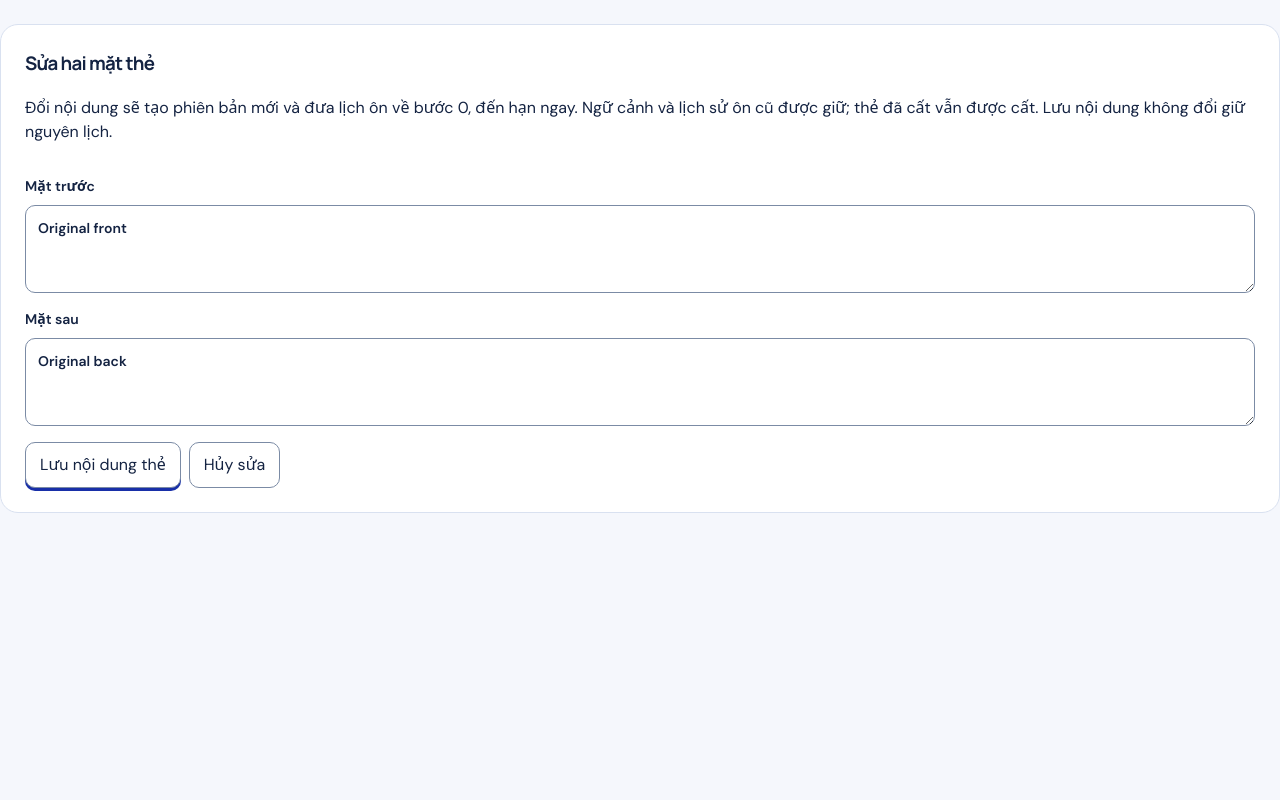
it: versioned card editor › can deliberately adopt the remote text without automatically writing
The width and height of the screenshot is (1280, 800).
Later steps or results of the test are not shown.
Submit the form, box [25,160,1255,488]
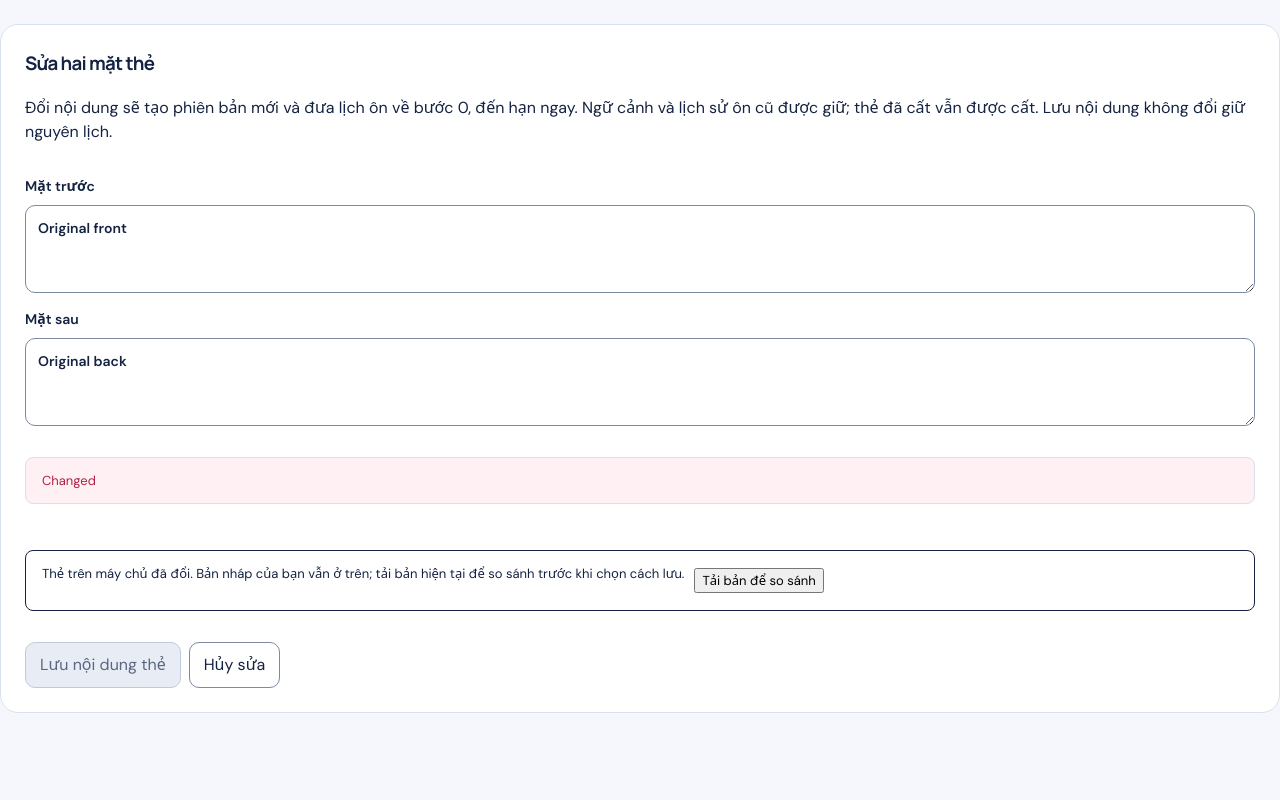
expect the button "Tải bản để so sánh" is shown: met
Click the button "Tải bản để so sánh".
click(759, 581)  # box [694,568,824,593]
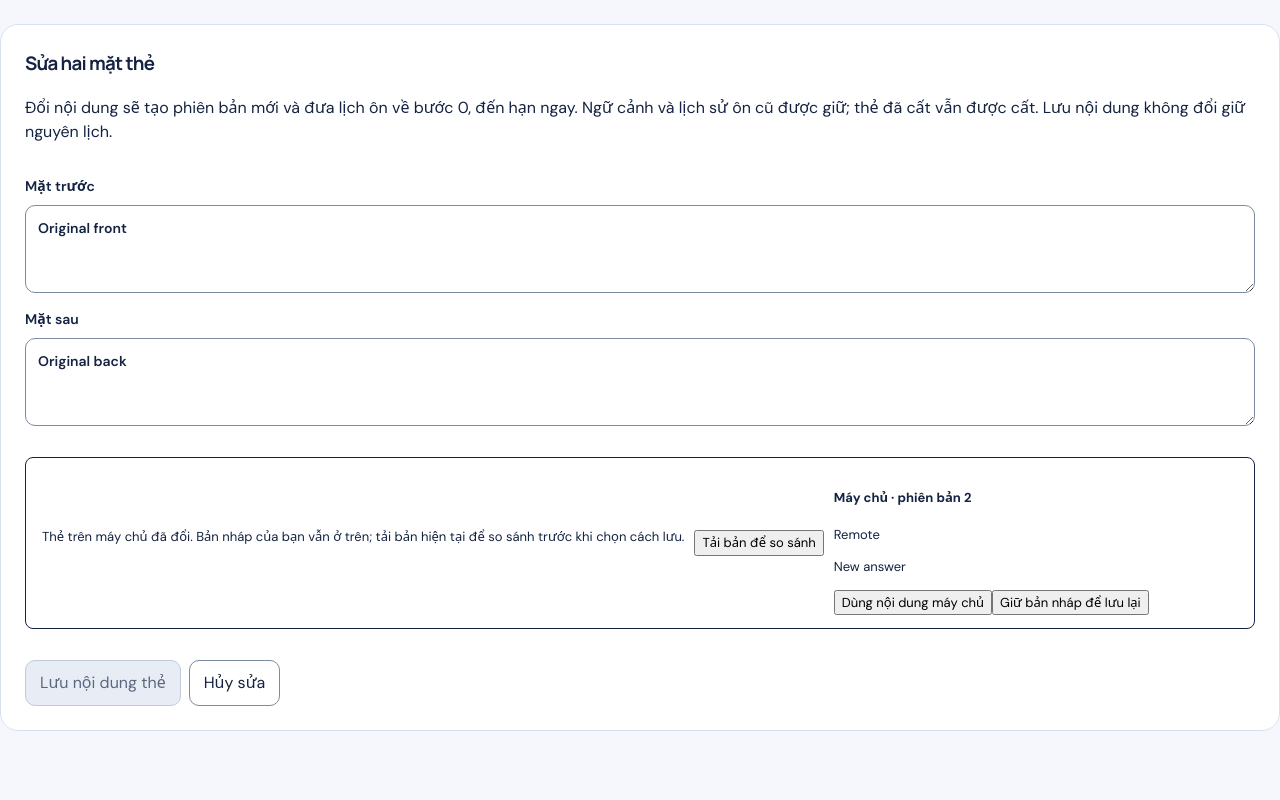
expect the button "Dùng nội dung máy chủ" is shown: met, box [834,590,992,615]
